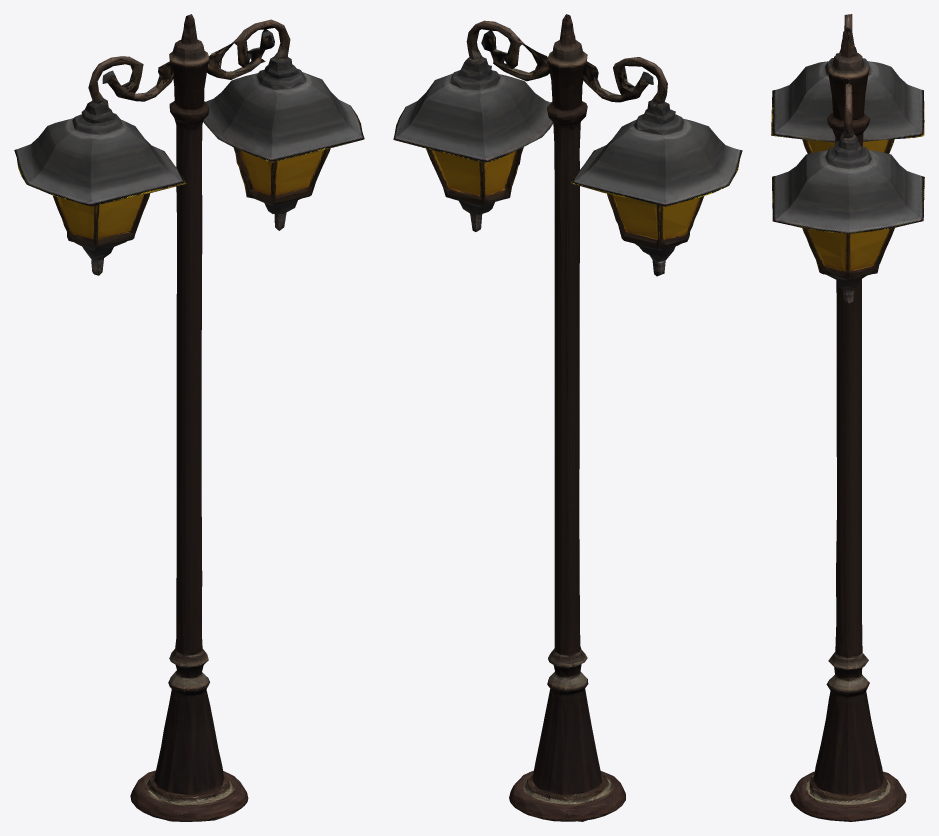
The model's file is den_duong_1.glb.
3 views of the same model, side by side, from view 1: azimuth 30°, elevation 25°; view 2: azimuth 150°, elevation 25°; view 3: azimuth 270°, elevation 25° (orthographic).
Parts seen in each view (by area): view 1: world; view 2: world; view 3: world.
Boxes of the visible parts, left/top/right/bottom form: world: left=14, top=14, right=364, bottom=821; world: left=393, top=14, right=742, bottom=821; world: left=771, top=14, right=924, bottom=821.
Bounding box in the file's own units: 0.4322 × 1 × 0.1808.
Materials: 1 (1 with a texture image).
